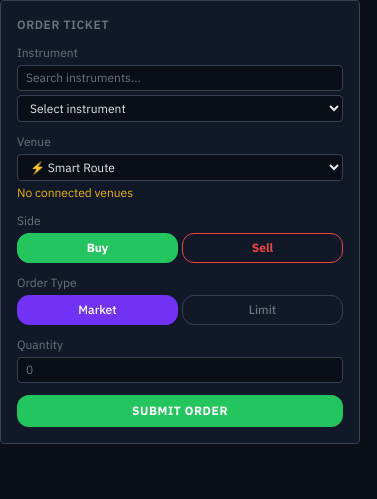
Test: OrderTicket › validates instrument is required
Type "10" into the number field labelled "Quantity". click: (180, 370)
box: 17,357 -> 343,383
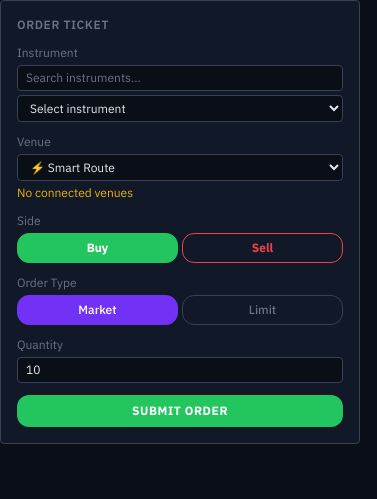
Click the button "Submit Order". click: (180, 411)
box: 17,395 -> 343,427
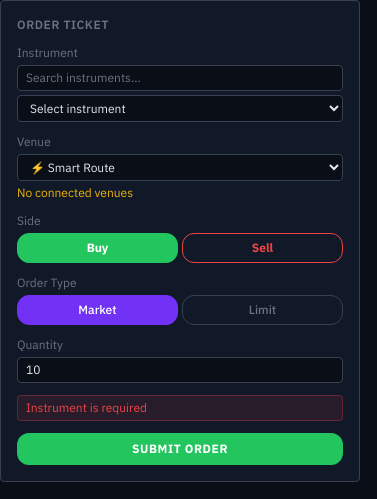
Now the text "Instrument is required" is shown, box 17,395 -> 343,421
